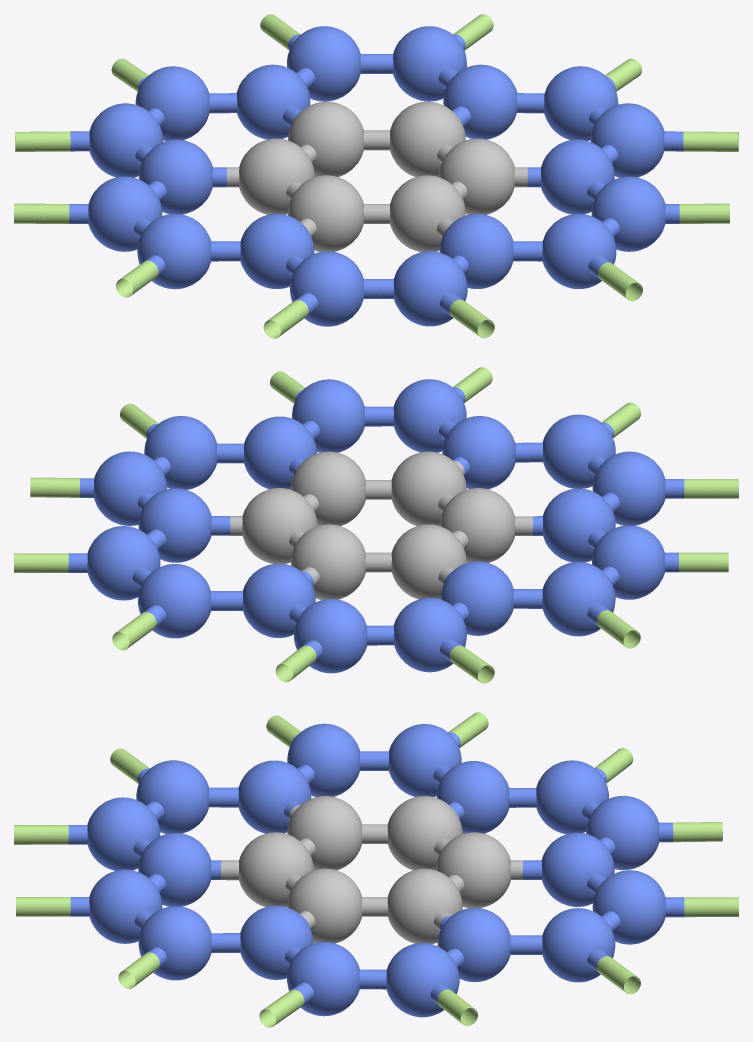
Rendered from grapheneNew1.gltf.
3 renders of one model, top to bottom at view 1: azimuth 30°, elevation 25°; view 2: azimuth 150°, elevation 25°; view 3: azimuth 270°, elevation 25°, orthographic.
Parts seen in each view (by area): view 1: round2_atoms, round1_atoms, round3_bonds, round2_bonds, round1_bonds; view 2: round2_atoms, round1_atoms, round3_bonds, round2_bonds, round1_bonds; view 3: round2_atoms, round1_atoms, round3_bonds, round2_bonds, round1_bonds.
Boxes of the visible parts, box(x1,y1,x2,y2) form: round2_atoms: box(88, 26, 665, 326); round1_atoms: box(239, 101, 514, 251); round3_bonds: box(14, 14, 738, 338); round2_bonds: box(69, 34, 683, 316); round1_bonds: box(227, 117, 527, 237); round2_atoms: box(87, 379, 665, 673); round1_atoms: box(242, 451, 515, 599); round3_bonds: box(14, 367, 738, 683); round2_bonds: box(68, 387, 684, 662); round1_bonds: box(230, 460, 532, 586); round2_atoms: box(87, 723, 665, 1017); round1_atoms: box(239, 796, 510, 943); round3_bonds: box(14, 712, 738, 1027); round2_bonds: box(68, 732, 684, 1005); round1_bonds: box(221, 805, 522, 930).
Size of the model in its own units: 7.19 by 0.77 by 7.31.
